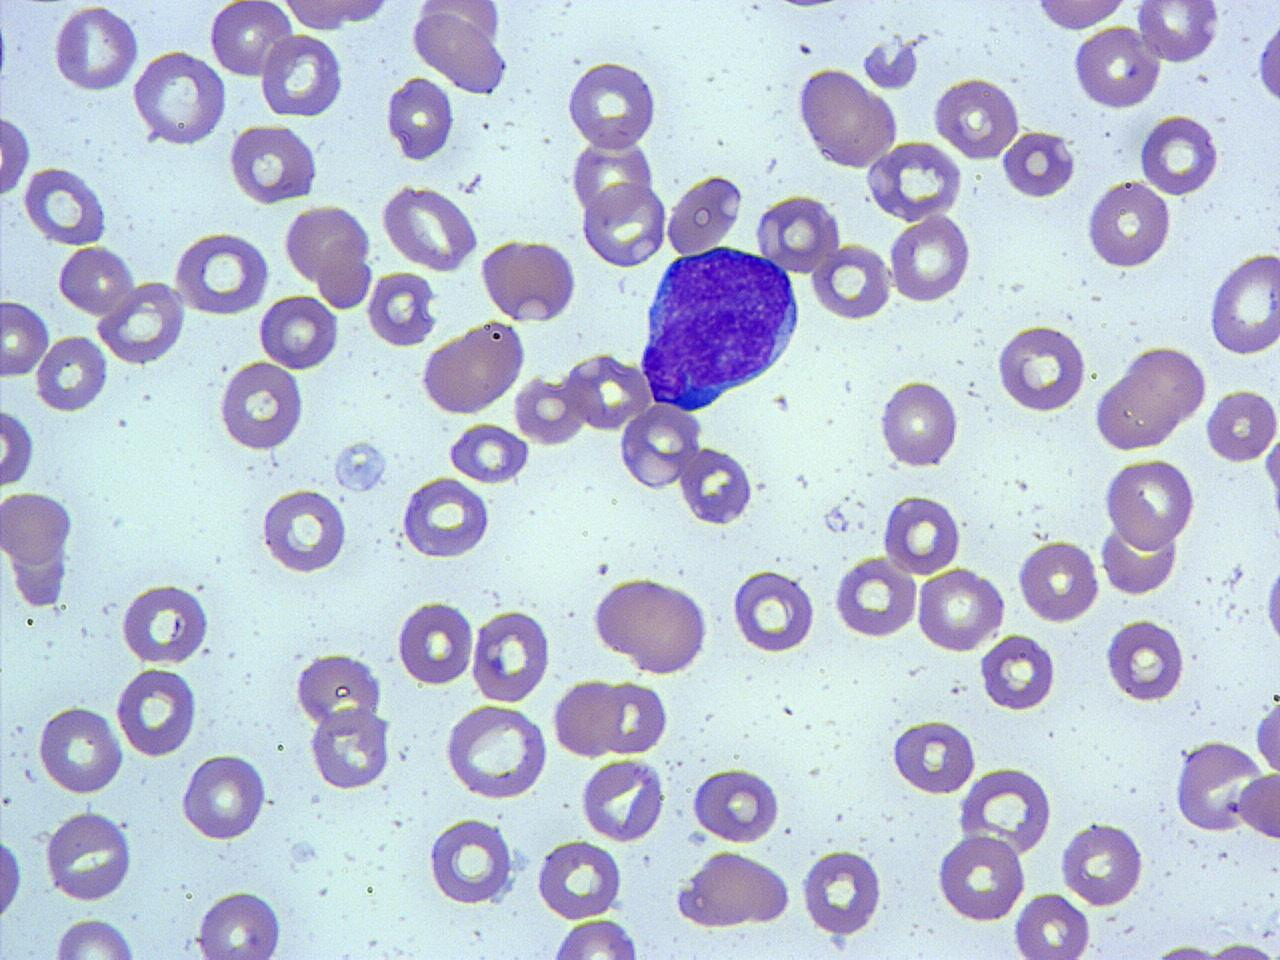RBC: (590, 575, 712, 677), (794, 66, 902, 171), (443, 702, 551, 804), (418, 318, 527, 418), (129, 49, 229, 148), (378, 182, 480, 274), (1103, 455, 1197, 553), (42, 806, 136, 905), (954, 765, 1054, 858), (564, 58, 660, 152), (172, 229, 273, 318), (215, 358, 307, 454), (410, 8, 509, 98), (995, 322, 1089, 415), (1174, 740, 1264, 836), (864, 139, 965, 223), (936, 832, 1026, 926), (35, 702, 124, 797), (914, 565, 1006, 655), (258, 485, 349, 577), (470, 607, 554, 705), (224, 122, 321, 207), (580, 179, 668, 271), (1071, 23, 1163, 112), (428, 816, 516, 909), (930, 74, 1023, 161), (1085, 179, 1173, 272), (113, 664, 199, 758), (51, 4, 141, 94), (401, 473, 492, 562), (293, 650, 385, 738), (94, 280, 186, 367), (182, 750, 268, 844), (578, 756, 666, 846), (121, 580, 212, 668), (1207, 248, 1279, 359), (888, 211, 972, 306), (284, 202, 372, 291), (1057, 819, 1145, 909), (1016, 536, 1101, 628), (800, 847, 884, 940), (878, 376, 959, 471), (306, 704, 394, 792), (731, 566, 815, 656), (674, 848, 768, 930), (754, 191, 842, 277), (833, 554, 918, 642), (1091, 371, 1183, 453), (534, 837, 624, 921), (258, 32, 344, 119), (1104, 616, 1186, 706), (564, 350, 652, 434), (618, 402, 698, 493), (690, 764, 781, 845), (396, 598, 476, 690), (21, 164, 110, 246), (888, 716, 978, 797), (664, 171, 747, 257), (496, 237, 578, 324), (1100, 512, 1180, 600), (1138, 113, 1220, 198), (882, 490, 962, 577), (193, 886, 284, 960), (384, 72, 456, 164), (809, 240, 890, 322), (256, 292, 340, 371), (1126, 346, 1208, 425), (208, 1, 290, 80), (33, 330, 108, 415), (978, 632, 1055, 714), (3, 520, 74, 608), (1204, 384, 1278, 467), (680, 445, 754, 527), (56, 243, 136, 318), (552, 674, 622, 758), (1, 489, 75, 569), (597, 678, 669, 758), (366, 268, 438, 348), (1001, 127, 1077, 202), (715, 851, 793, 924), (1134, 0, 1220, 65), (446, 421, 532, 485), (512, 372, 586, 447), (1014, 890, 1093, 960), (314, 238, 374, 310), (274, 0, 394, 35), (0, 298, 51, 379), (414, 0, 504, 45), (546, 916, 642, 958), (50, 915, 140, 959), (1032, 0, 1132, 34), (862, 34, 922, 91), (0, 403, 38, 489), (333, 438, 389, 494), (1235, 770, 1279, 842), (0, 110, 33, 202), (0, 824, 25, 928), (1256, 18, 1280, 110), (1252, 696, 1280, 774)
WBC: (634, 240, 802, 414), (592, 573, 716, 680), (796, 66, 900, 169), (129, 46, 226, 147), (257, 480, 353, 578), (406, 9, 511, 98), (278, 0, 404, 32), (1262, 545, 1280, 658)
